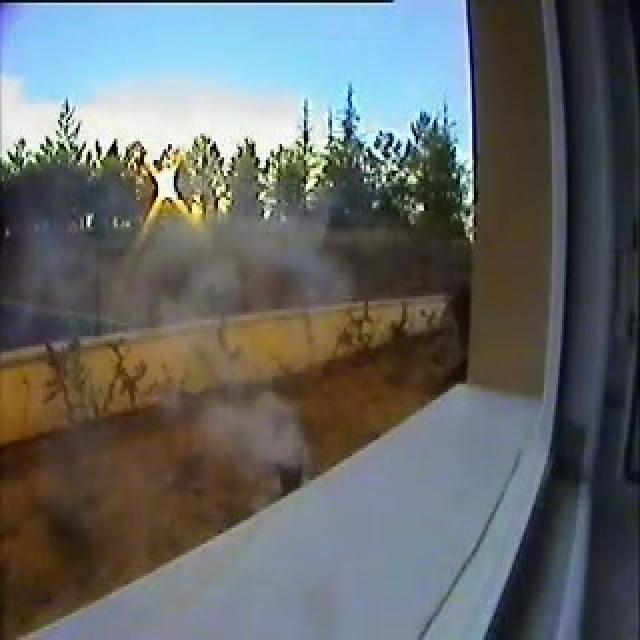smoke: (214, 394, 301, 460)
